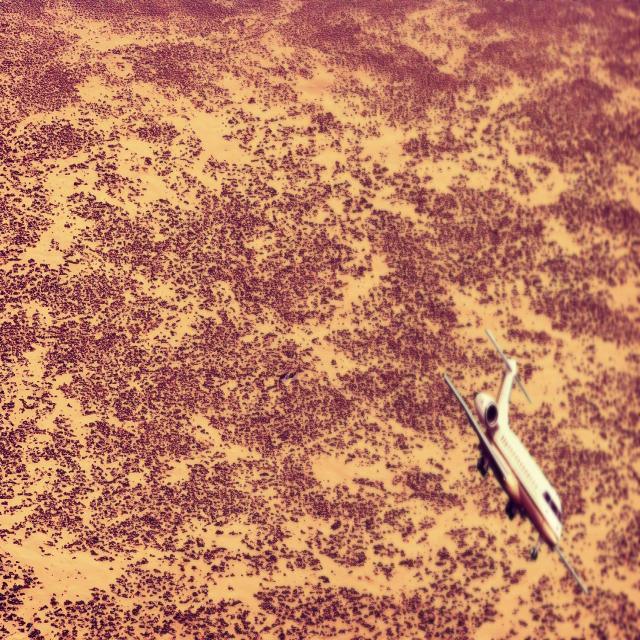airplane: (443, 328, 588, 595)
